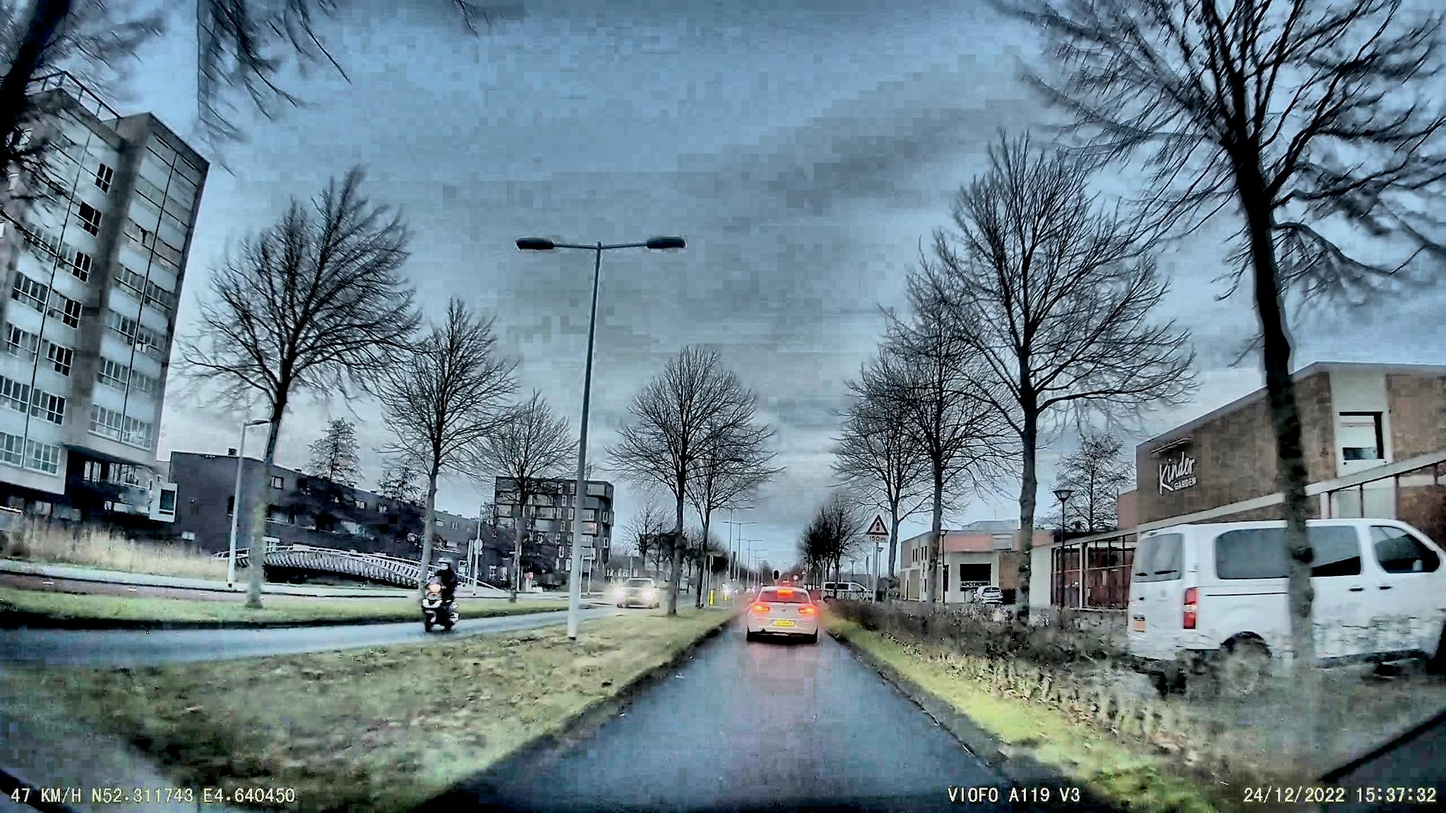Roads: (502, 625, 1023, 813)
